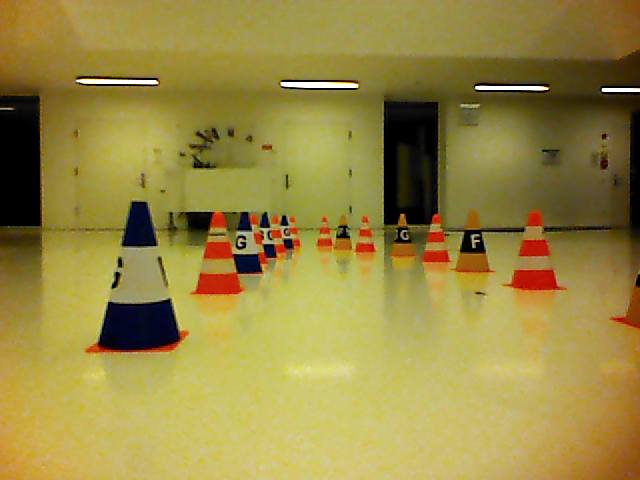bluecone: (88, 200, 188, 354)
orangeconesmall: (500, 208, 570, 291), (192, 211, 244, 296), (421, 212, 455, 263), (353, 215, 381, 252)
yellowcone: (454, 211, 496, 275), (389, 213, 420, 258)
